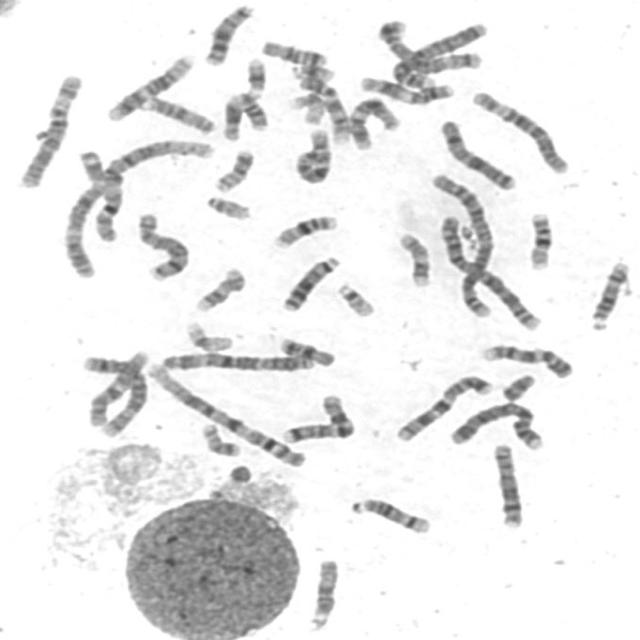A1: (58, 136, 217, 278), (140, 356, 310, 470)
A2: (432, 210, 544, 332), (426, 166, 496, 320)
A3: (58, 152, 126, 280), (156, 347, 317, 375)
B4: (386, 18, 489, 90), (444, 398, 544, 452)
B5: (381, 17, 484, 88), (376, 16, 484, 82)
C10: (80, 347, 151, 434), (290, 124, 334, 186)
C11: (73, 146, 125, 244), (355, 71, 457, 107)
C12: (101, 49, 197, 123), (343, 92, 402, 151)
C6: (466, 86, 572, 175), (13, 69, 84, 189)
C7: (390, 370, 496, 444), (277, 390, 357, 446)
C8: (132, 208, 192, 283), (487, 439, 526, 530)
C9: (293, 69, 353, 145), (476, 340, 575, 380)
D13: (277, 251, 343, 313), (199, 0, 257, 67)
D14: (346, 494, 434, 536), (584, 257, 632, 332)
D15: (137, 91, 218, 135), (302, 554, 342, 632)
E16: (267, 210, 340, 250), (522, 207, 556, 271)
E17: (190, 264, 248, 314), (393, 227, 435, 289)
E18: (275, 332, 337, 368), (256, 36, 330, 66)
F19: (179, 316, 236, 353), (284, 90, 326, 126)
F20: (209, 146, 257, 193), (195, 418, 243, 458)
G21: (240, 54, 268, 94), (287, 61, 336, 82)
G22: (332, 278, 378, 318), (201, 191, 252, 221)
X: (434, 115, 519, 192)
Y: (496, 369, 538, 402)
